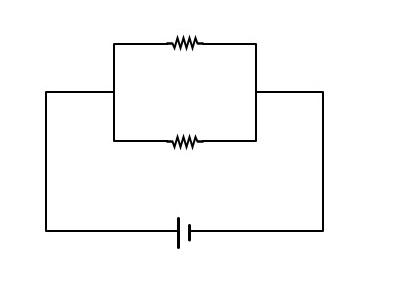resistor: (156, 120, 222, 153), (155, 26, 217, 53)
